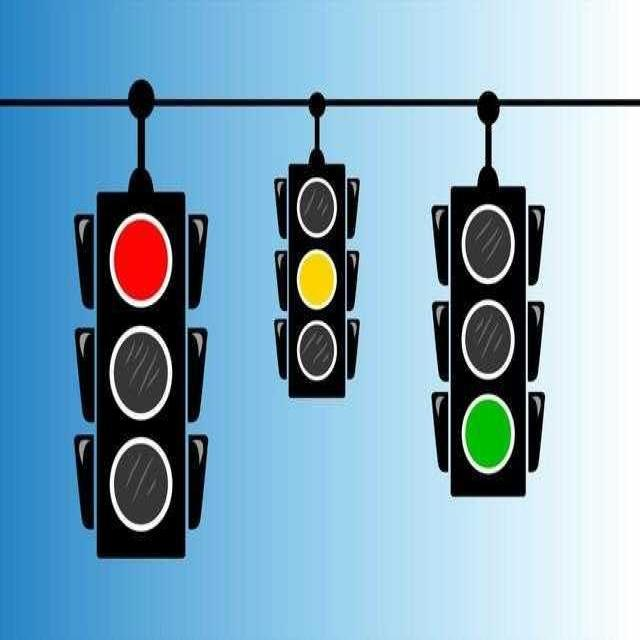Traffic Light -Green-: (73, 180, 218, 565), (452, 179, 525, 496)
Traffic Light -Yellow-: (283, 155, 352, 398)
